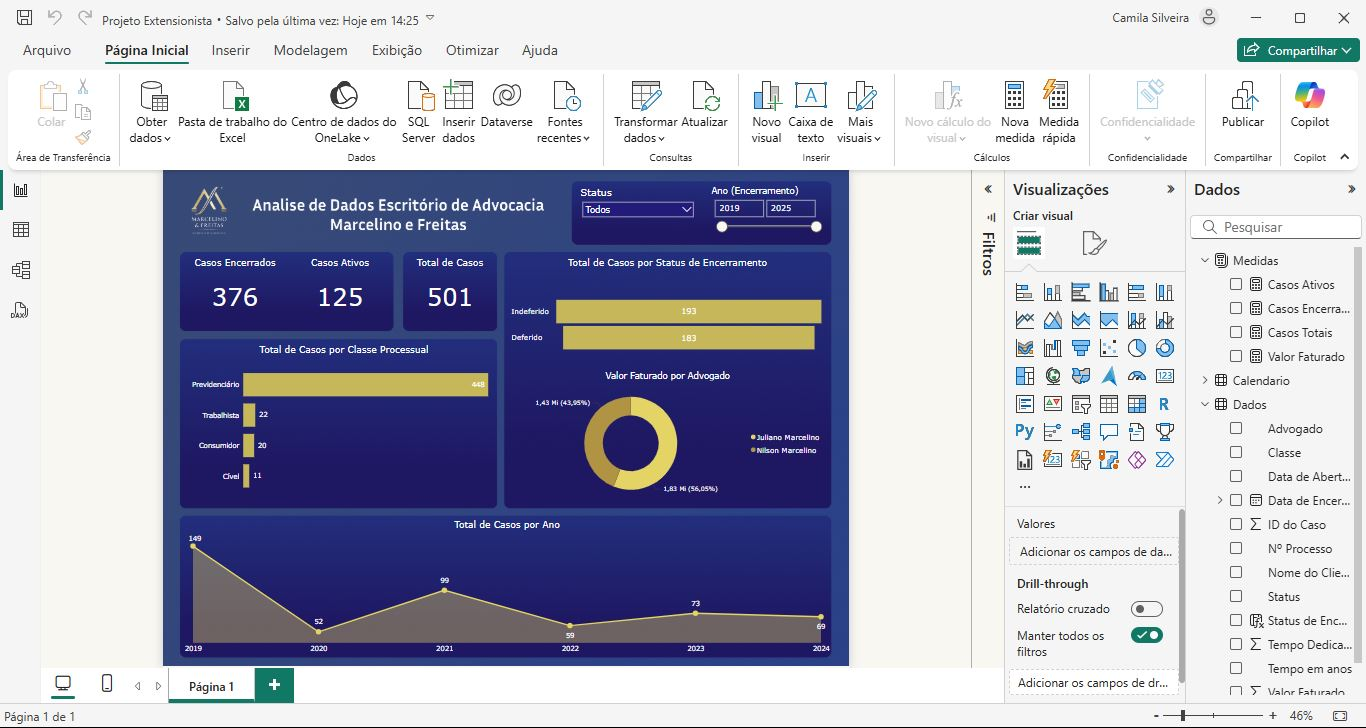

What the dashboard file says about the page in this screenshot:
{"tool":"powerbi","page":{"name":"Página 1","canvas":[1500,1090],"ordinal":0},"visuals":[{"type":"card","title":"Casos Encerrados","fields":{"Values":["Medidas.Casos Encerrados"]},"box":[41.6,190.4,232,144.5],"z":0},{"type":"card","title":"Casos Ativos","fields":{"Values":["Medidas.Casos Ativos"]},"box":[273.6,190.4,227.6,144.5],"z":1000},{"type":"card","title":"Total de Casos","fields":{"Values":["Medidas.Casos Totais"]},"box":[529.7,190.4,197,144.5],"z":2000},{"type":"funnel","title":"Total de Casos por Status de Encerramento","fields":{"Category":["Dados.Status de Encerramento"],"Y":["CountNonNull(Dados.ID do Caso)"]},"box":[757.3,190.4,693.8,271.4],"z":3000},{"type":"donutChart","fields":{"Category":["Dados.Advogado Responsável"],"Y":["Medidas.Valor Faturado"]},"box":[757.3,437.8,693.8,297.7],"z":4000},{"type":"clusteredBarChart","title":"Total de Casos por Classe Processual","fields":{"Category":["Dados.Classe"],"Y":["Medidas.Casos Totais"]},"box":[41.6,380.8,709.2,348],"z":5000},{"type":"areaChart","title":"Total de Casos por Ano","fields":{"Category":["Calendario.dt_data.Variation.Hierarquia de datas.Ano"],"Y":["Medidas.Casos Totais"]},"box":[41.6,763.9,1422.7,302],"z":6000},{"type":"slicer","title":"Status","fields":{"Values":["Dados.Status de Encerramento"]},"box":[908.3,35,262.7,91.9],"z":6001},{"type":"slicer","title":"Ano (Encerramento)","fields":{"Values":["Dados.Data de Encerramento.Variation.Hierarquia de datas.Ano"]},"box":[1195.1,32.8,256.1,118.2],"z":6002}]}

Visuals, with their boxes on the page's 1500x1090 design canvas (x1, y1, x2, y2). These are canvas units, not pixel positions in the 1366x728 screenshot, which may show the page scaled, cropped or inside an application window:
"Casos Encerrados" card: crop(42, 190, 274, 335)
"Casos Ativos" card: crop(274, 190, 501, 335)
"Total de Casos" card: crop(530, 190, 727, 335)
"Total de Casos por Status de Encerramento" funnel: crop(757, 190, 1451, 462)
donutChart - Dados.Advogado Responsável x Medidas.Valor Faturado: crop(757, 438, 1451, 736)
"Total de Casos por Classe Processual" clusteredBarChart: crop(42, 381, 751, 729)
"Total de Casos por Ano" areaChart: crop(42, 764, 1464, 1066)
"Status" slicer: crop(908, 35, 1171, 127)
"Ano (Encerramento)" slicer: crop(1195, 33, 1451, 151)
